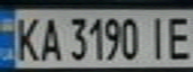0: (118, 14, 142, 61)
1: (84, 14, 106, 61)
3: (63, 14, 87, 61)
9: (103, 15, 124, 61)
A: (36, 14, 63, 62)
E: (163, 12, 193, 61)
I: (142, 12, 172, 61)
K: (9, 12, 42, 62)
